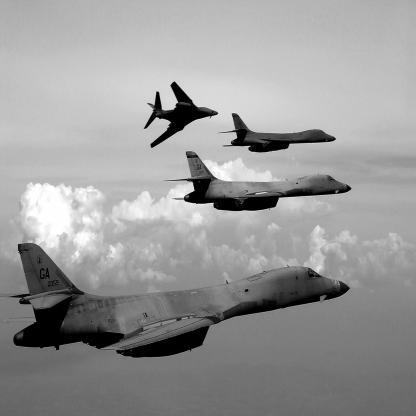B1: (1, 242, 351, 359), (163, 152, 353, 212), (145, 83, 220, 150), (218, 114, 337, 154)
